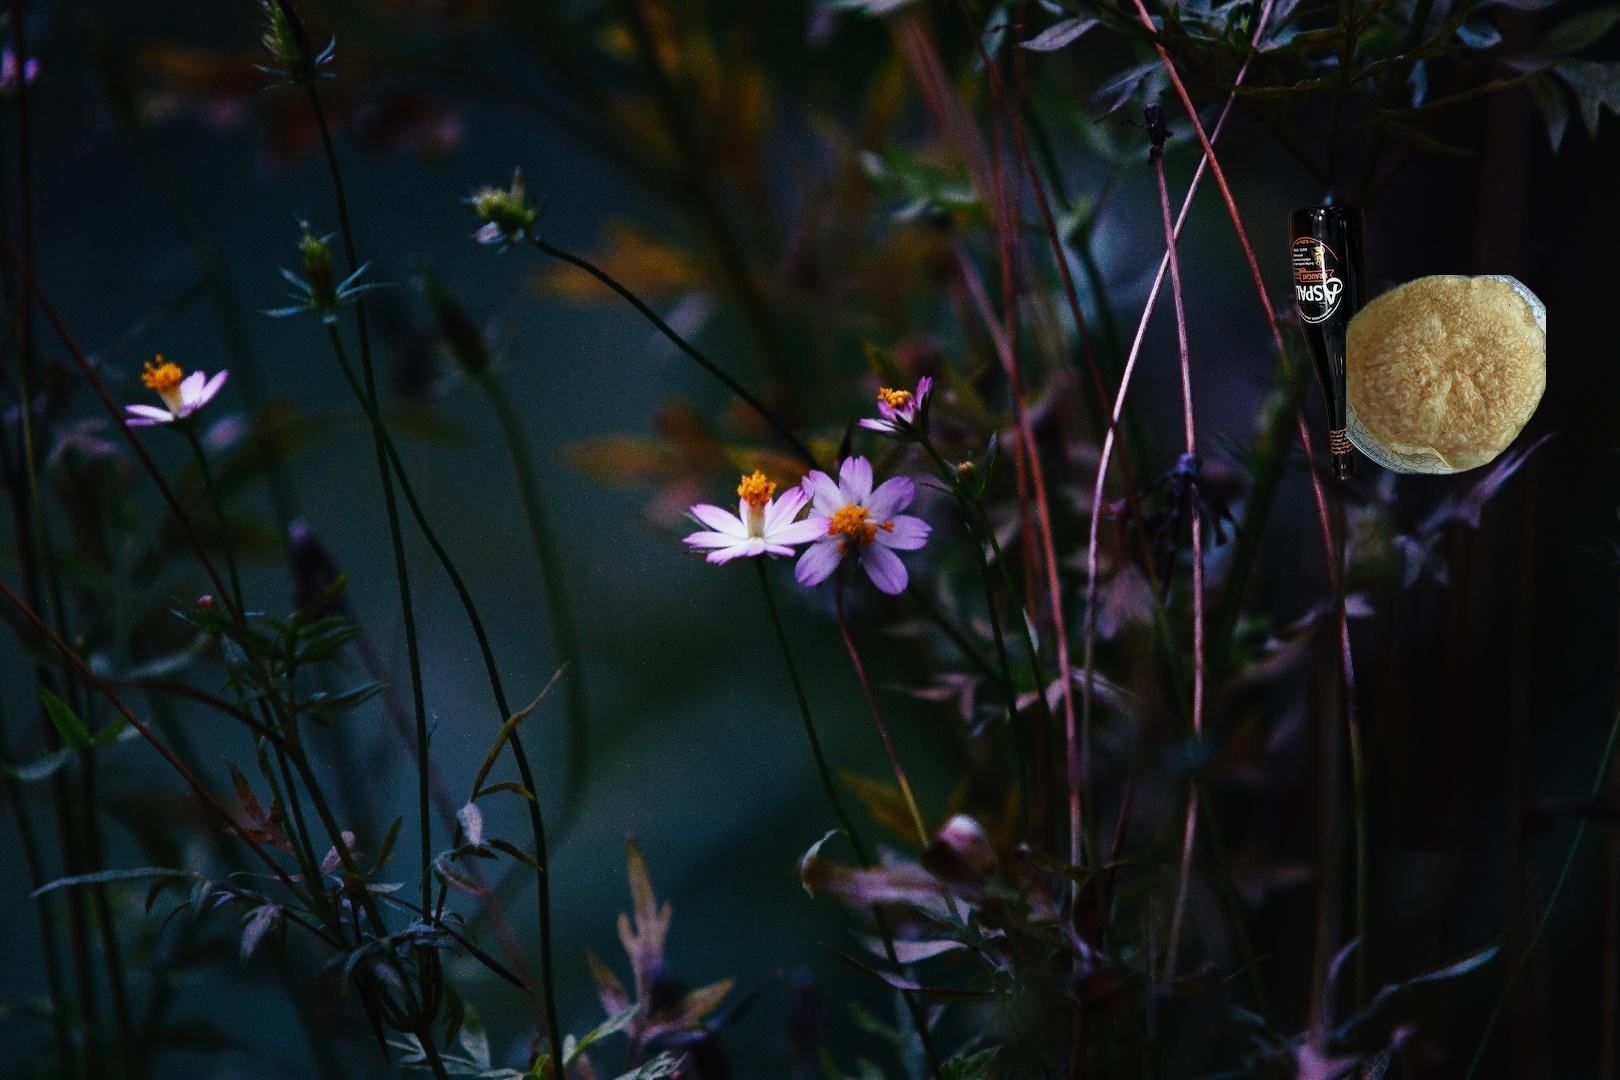biological: (1346, 275, 1546, 475)
glass: (1284, 199, 1373, 488)
